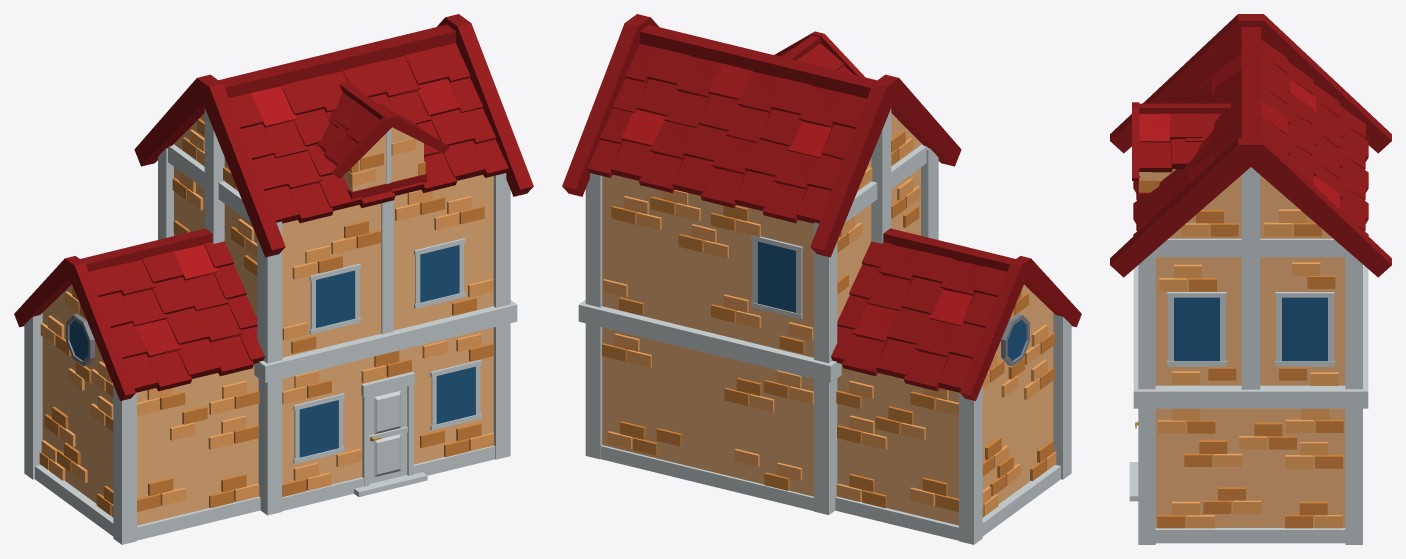
The model's file is SM_House_8.FBX.
3 views of the same model, side by side, from view 1: azimuth 30°, elevation 25°; view 2: azimuth 150°, elevation 25°; view 3: azimuth 270°, elevation 25° (orthographic). The views are drawn at different scales.
Parts seen in each view (by area): view 1: SM_House_8; view 2: SM_House_8; view 3: SM_House_8.
Boxes of the visible parts, bbox=[...] form: SM_House_8: bbox=[14, 14, 533, 544]; SM_House_8: bbox=[562, 14, 1081, 544]; SM_House_8: bbox=[1110, 14, 1391, 544].
Size of what is drawn, in the model's own units: 865 by 522 by 826.
